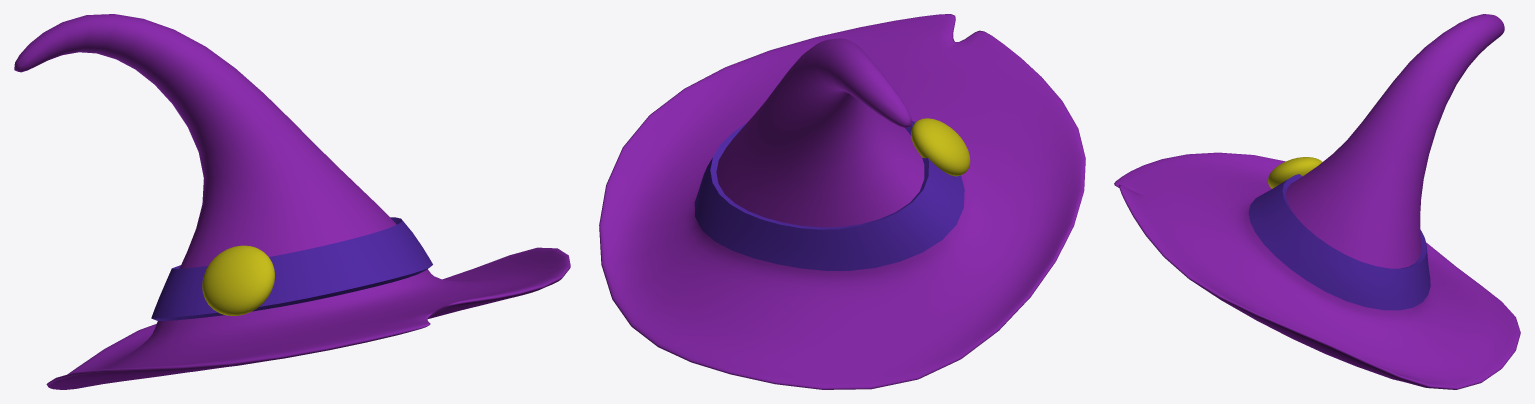
File: wizard_hat.glb
3 renders of one model, left to right at view 1: azimuth 30°, elevation 25°; view 2: azimuth 150°, elevation 25°; view 3: azimuth 270°, elevation 25°, orthographic. The views are drawn at different scales.
Parts seen in each view (by area): view 1: wizard_hat; view 2: wizard_hat; view 3: wizard_hat.
Boxes of the visible parts, x1=… form: wizard_hat: x1=14, y1=14, x2=570, y2=389; wizard_hat: x1=599, y1=14, x2=1085, y2=389; wizard_hat: x1=1114, y1=14, x2=1520, y2=389.
Bounding box in the file's own units: 2.33 × 1.7 × 2.25.
Materials: 1 (1 with a texture image).
